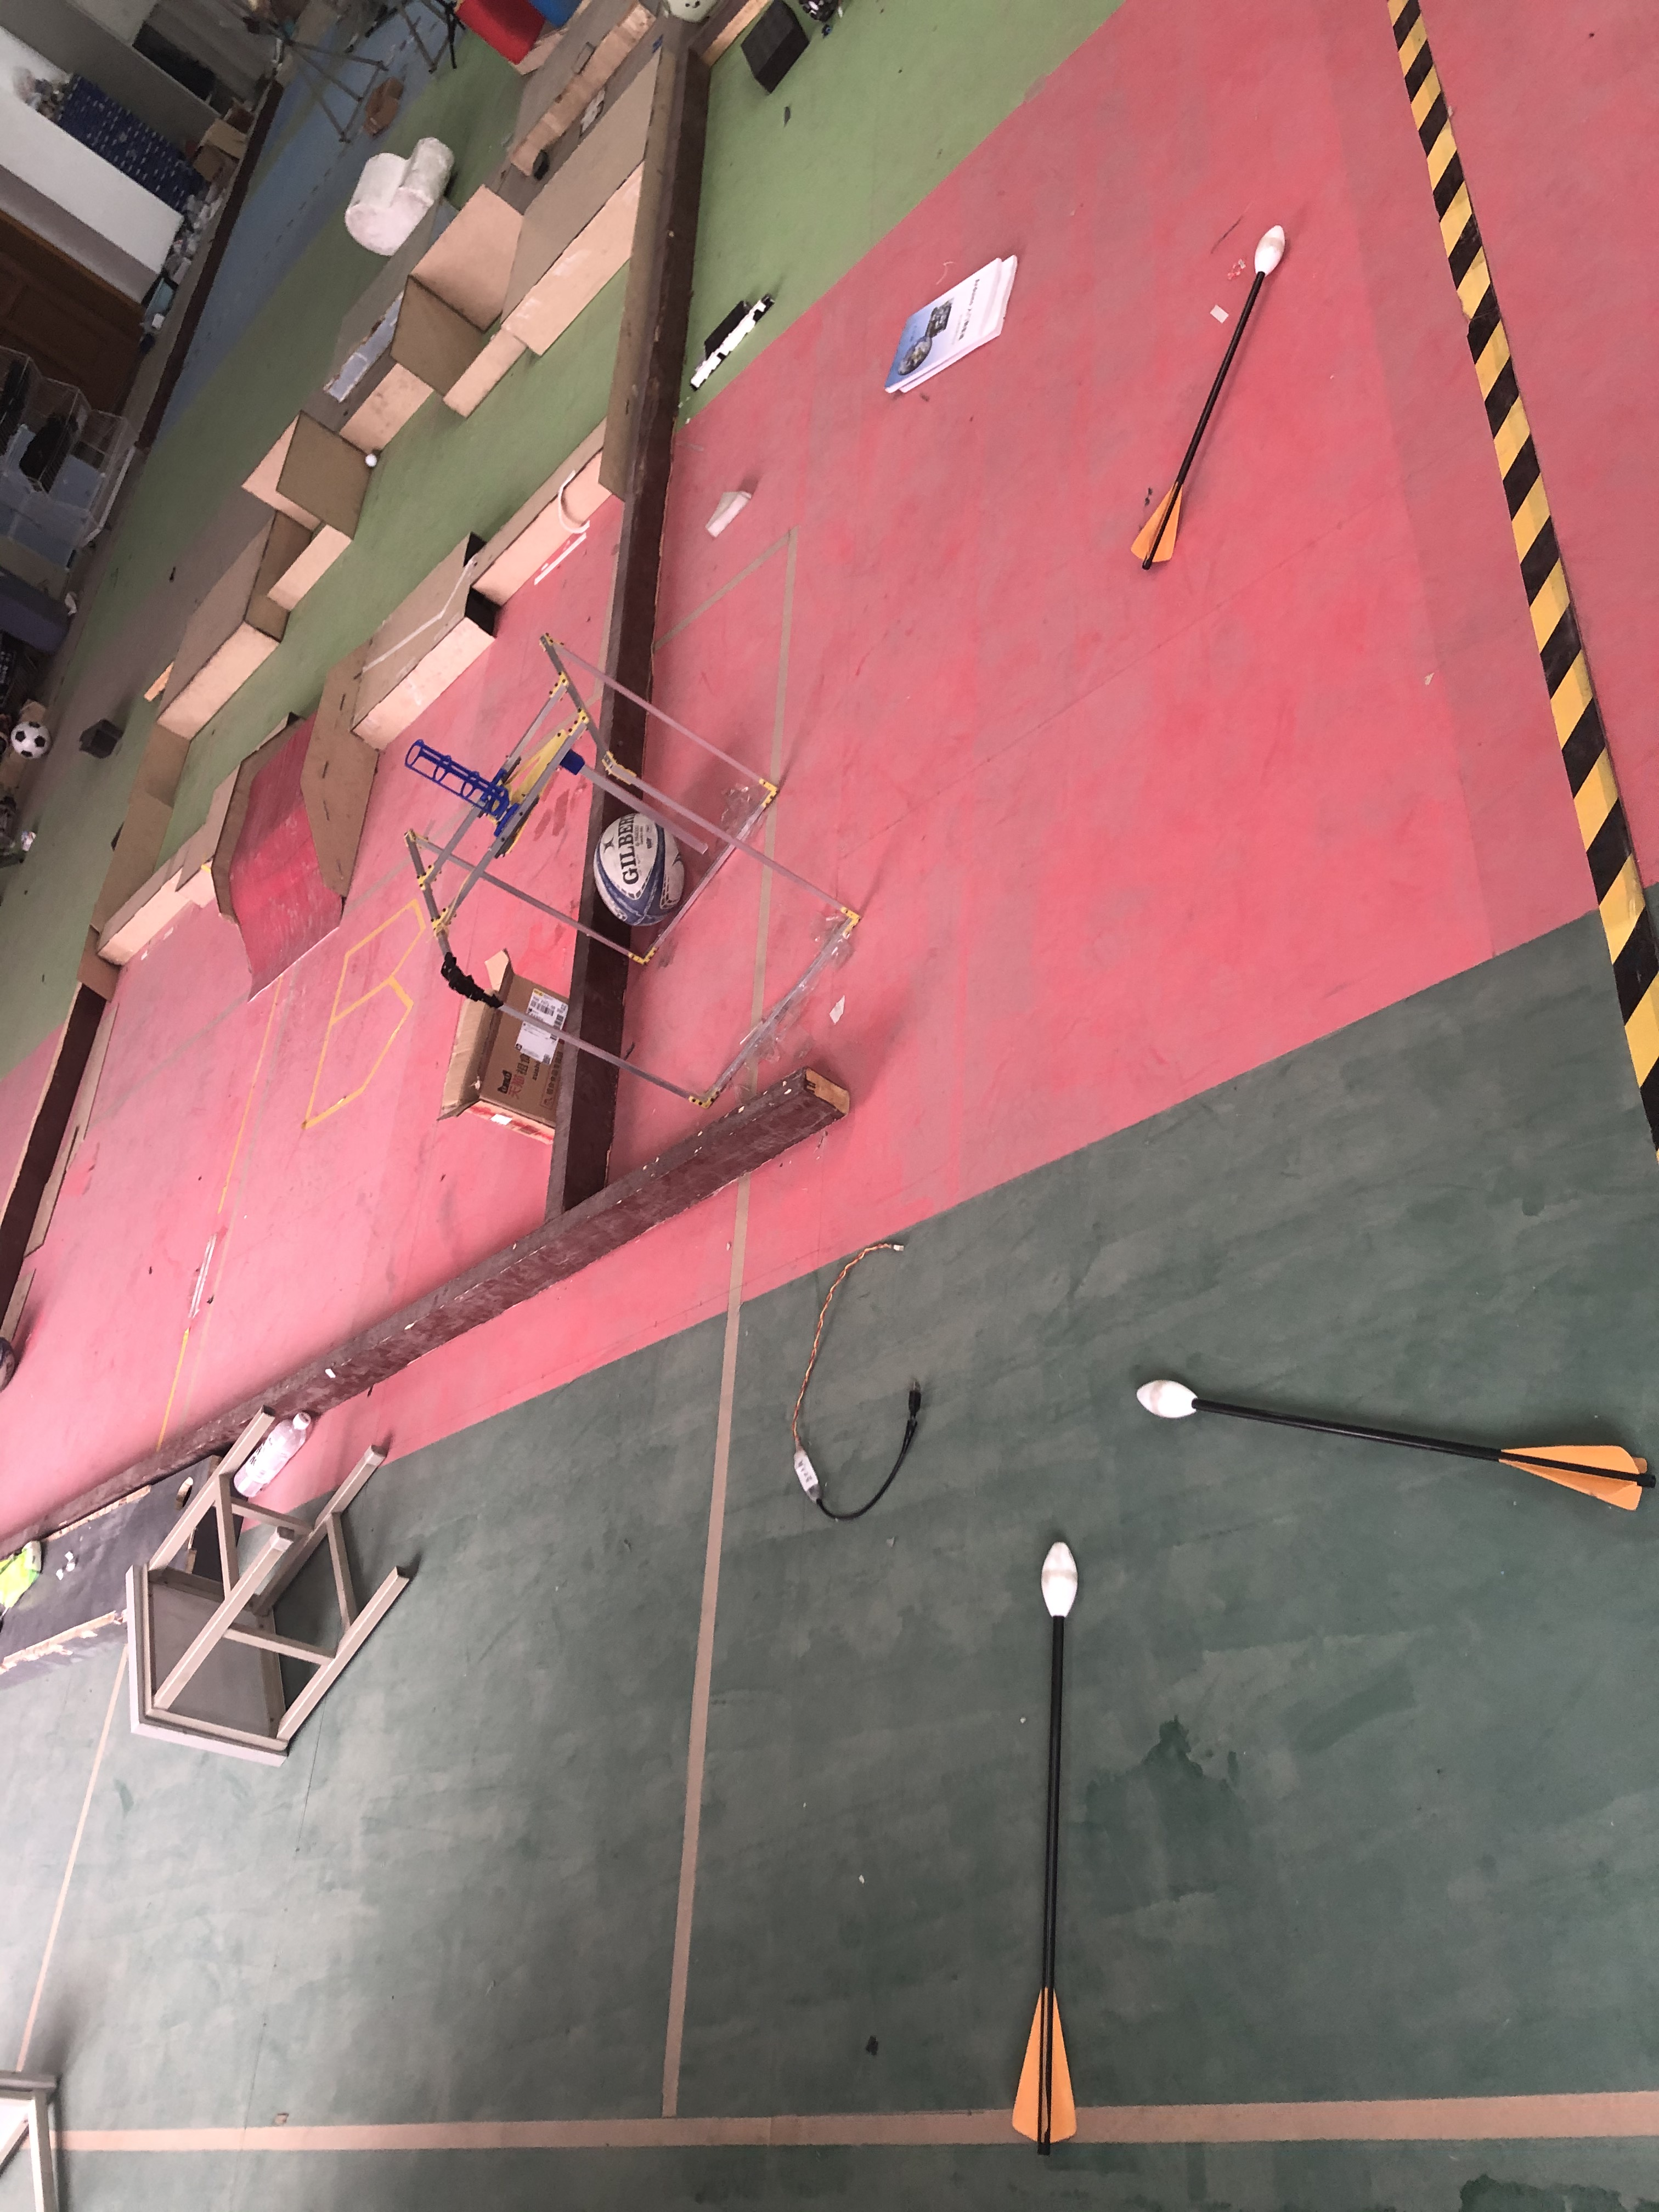arrow: (1124, 1366, 1659, 1510), (999, 1529, 1094, 2149), (1136, 221, 1304, 573)
arrowFront: (1035, 1531, 1084, 1620), (1131, 1379, 1204, 1418), (1248, 223, 1291, 275)
